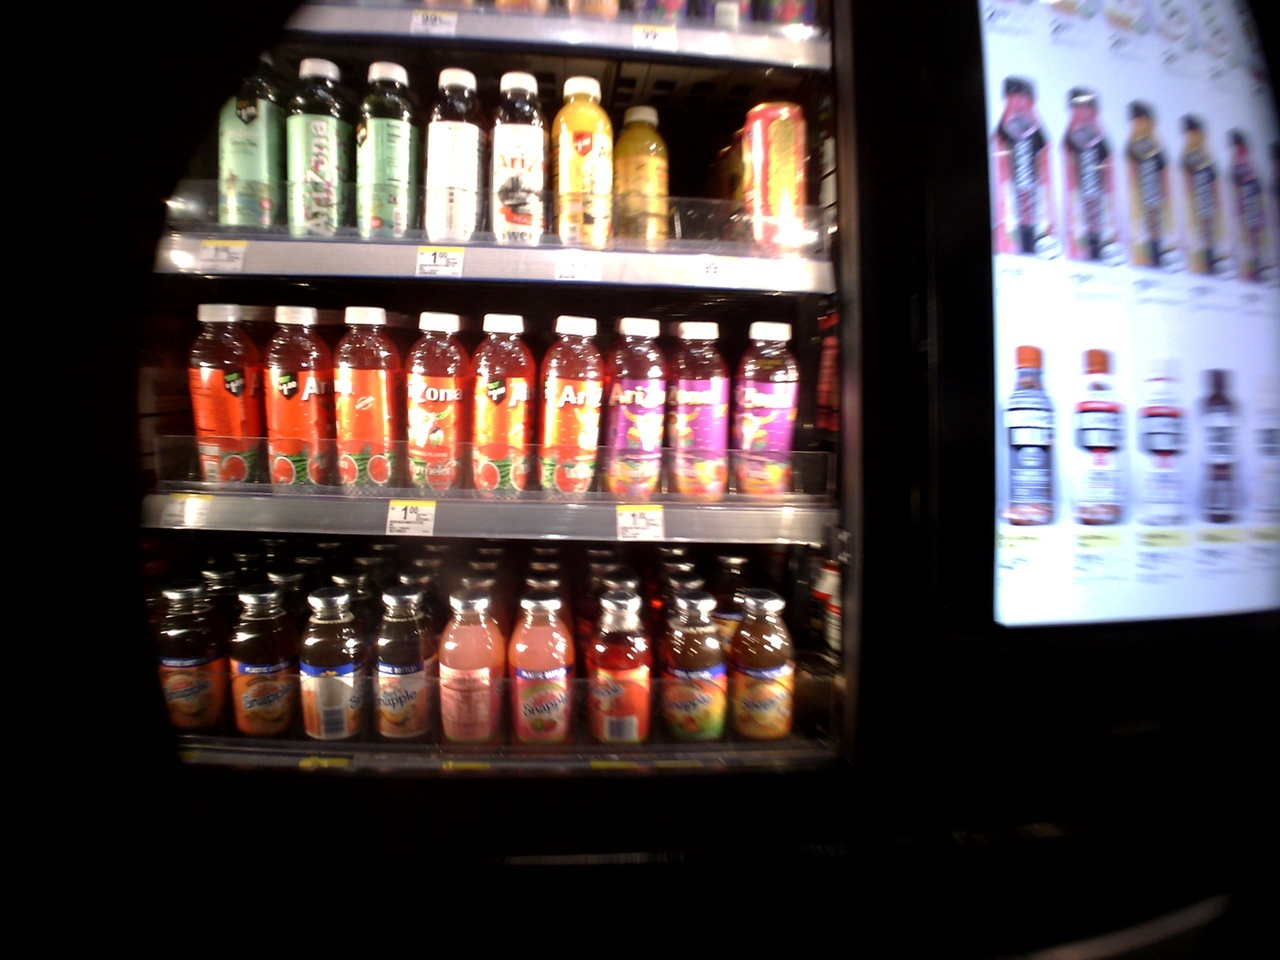shelf: (125, 534, 856, 786), (132, 33, 810, 297), (152, 298, 820, 547)
